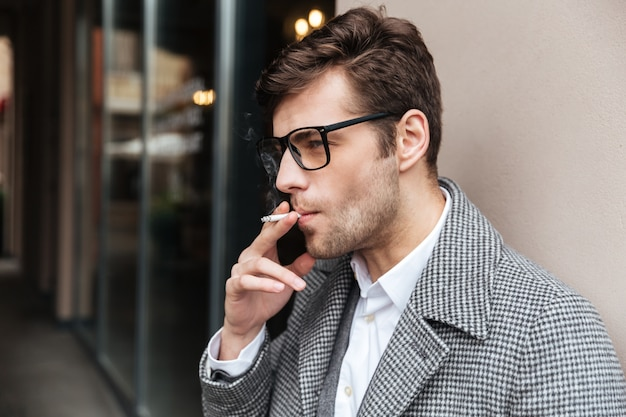cigarette: (261, 212, 302, 221)
